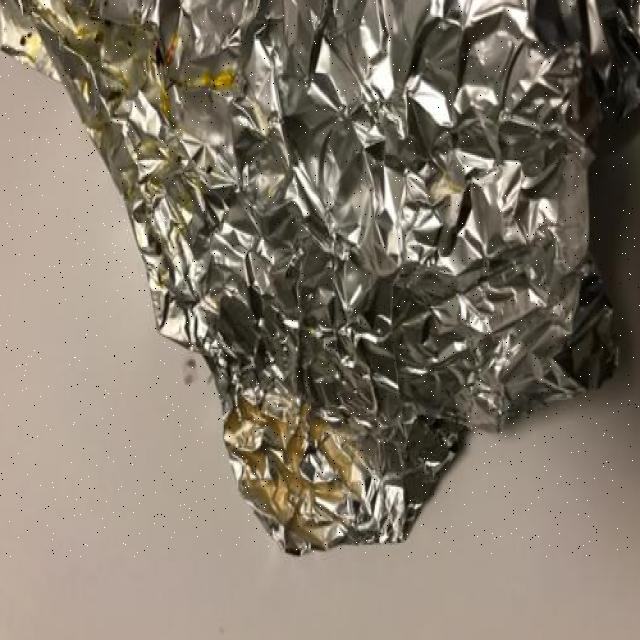metal: (0, 0, 640, 556)
